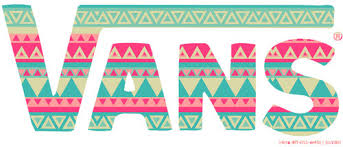vans: (2, 5, 340, 136)
